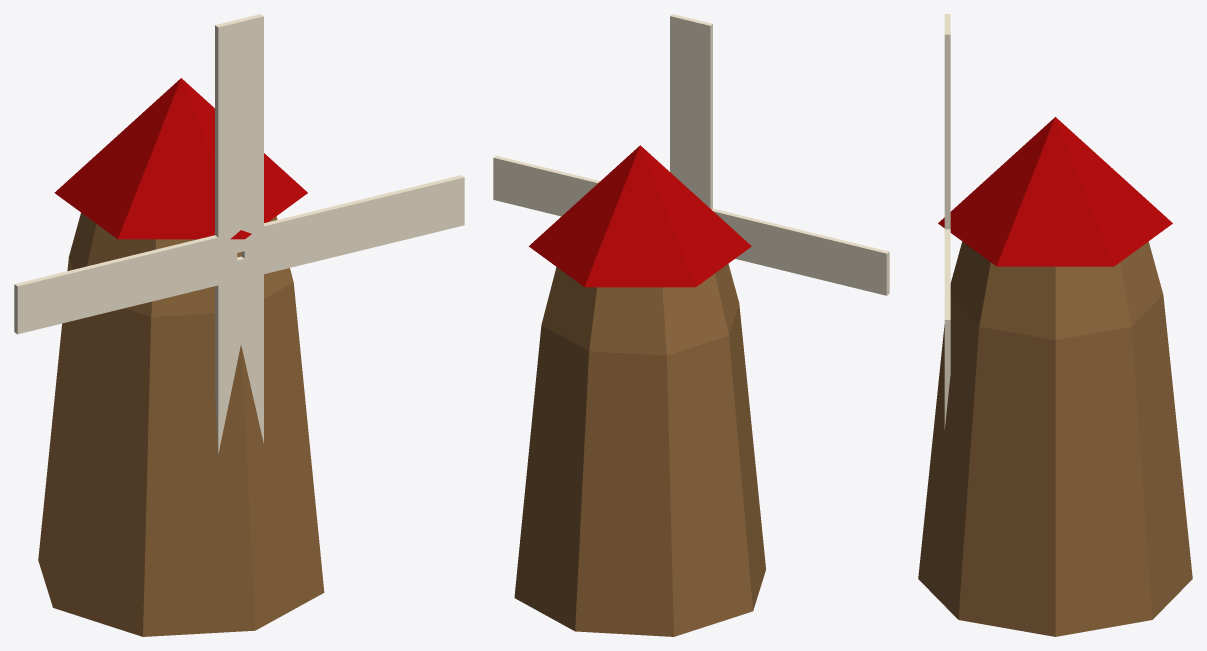
Rendered from minimill.glb.
The picture shows the model from 3 angles, left to right: view 1: azimuth 30°, elevation 25°; view 2: azimuth 150°, elevation 25°; view 3: azimuth 270°, elevation 25°; orthographic projection. The views are drawn at different scales.
Visible parts, largest first — view 1: minimill_wood, minimill_fabric, minimill_plain; view 2: minimill_wood, minimill_fabric, minimill_plain; view 3: minimill_wood, minimill_plain, minimill_fabric.
Part boxes in pixels (x1,y1,x2,y2): minimill_wood: [38, 213, 324, 636]; minimill_fabric: [14, 14, 464, 454]; minimill_plain: [54, 78, 307, 239]; minimill_wood: [514, 263, 765, 636]; minimill_fabric: [493, 14, 889, 295]; minimill_plain: [528, 145, 751, 287]; minimill_wood: [918, 241, 1192, 636]; minimill_plain: [938, 117, 1172, 266]; minimill_fabric: [944, 14, 950, 429].
Bounding box in the file's own units: 2.44 × 3.12 × 1.4.
